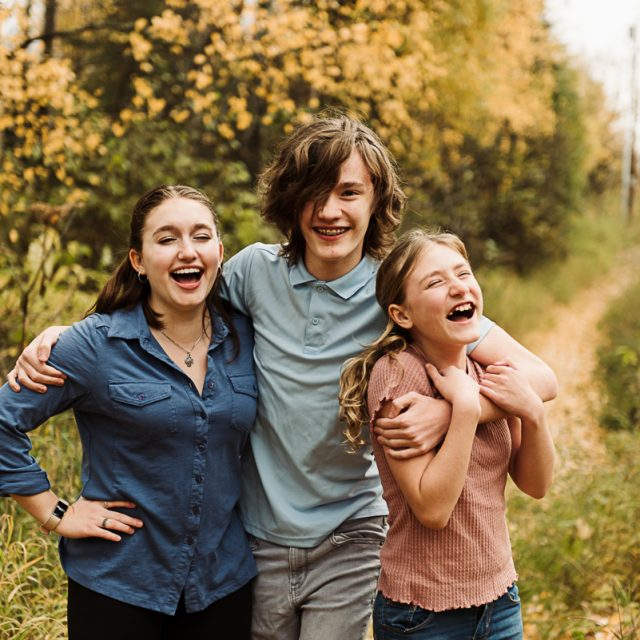human: (128, 193, 224, 311), (294, 142, 382, 262), (405, 241, 490, 347)
